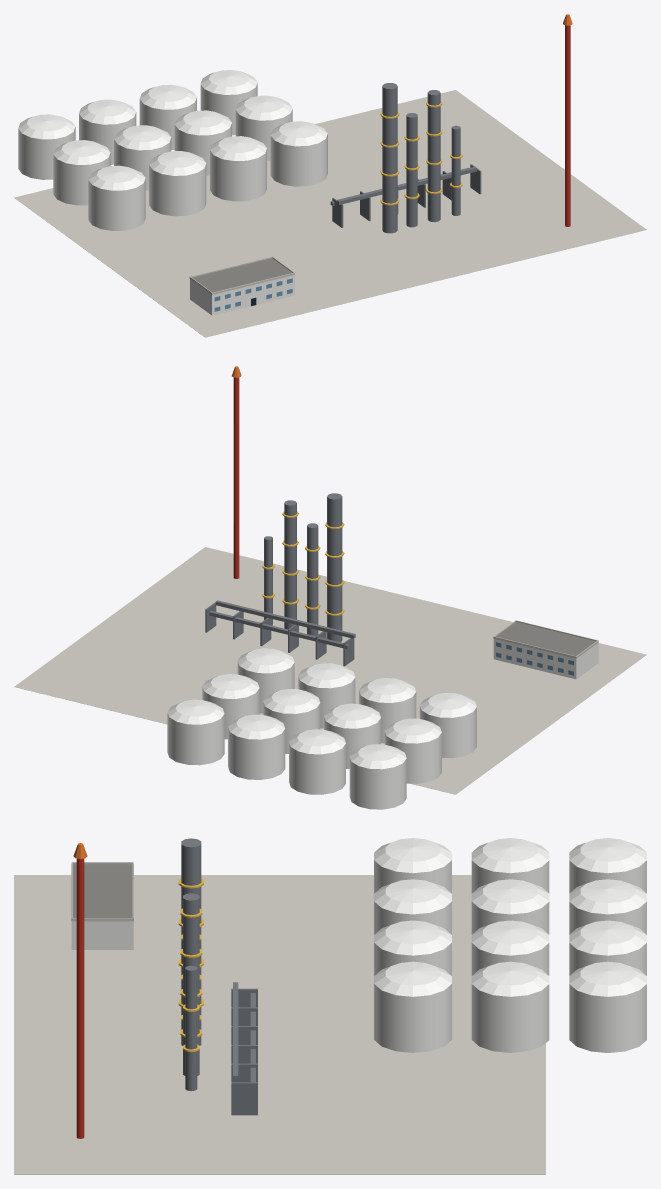
File: raffinerie_petrole.glb
3 renders of one model, top to bottom at view 1: azimuth 30°, elevation 25°; view 2: azimuth 150°, elevation 25°; view 3: azimuth 270°, elevation 25°, orthographic. The views are drawn at different scales.
Parts seen in each view (by area): view 1: raffinerie_petrole; view 2: raffinerie_petrole; view 3: raffinerie_petrole.
Boxes of the visible parts, x1,y1,x2,y2 form: raffinerie_petrole: (14, 14, 646, 337); raffinerie_petrole: (14, 366, 646, 809); raffinerie_petrole: (14, 838, 646, 1174).
Bounding box in the file's own units: 160 × 73 × 143.
1 material, 1 textured.
